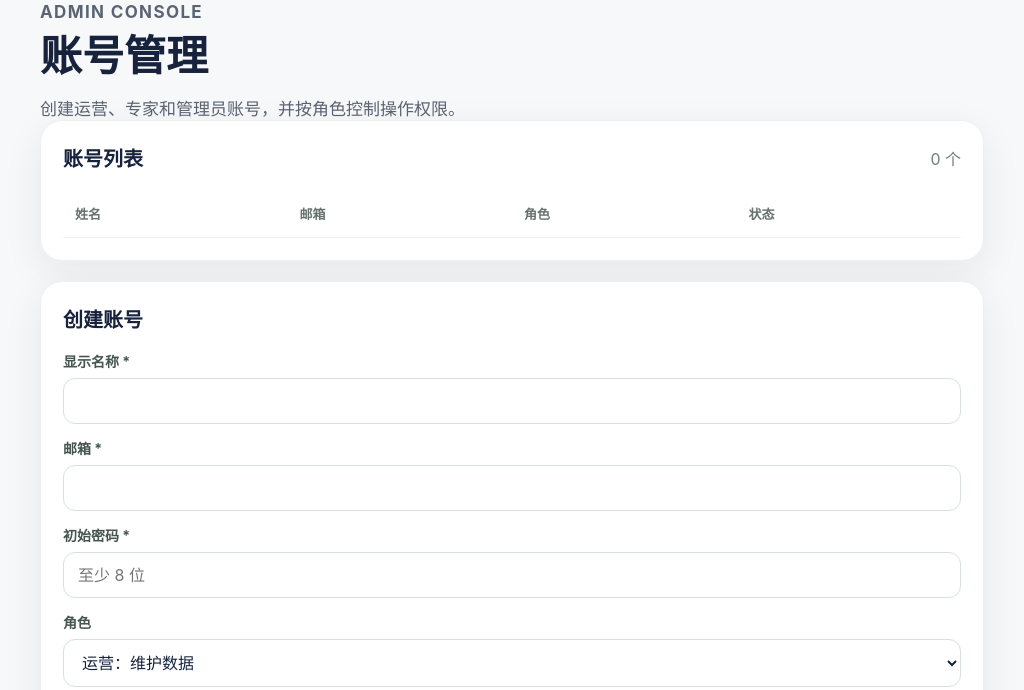
Scenario: UserManagement › 创建专家账号并提交所选角色
The image size is (1024, 690).
Expected: the text "0 个" is shown, [930,146,961,170]
In the field labelled "显示名称 *": (512,401) [63,378,961,424], type "审核专家"
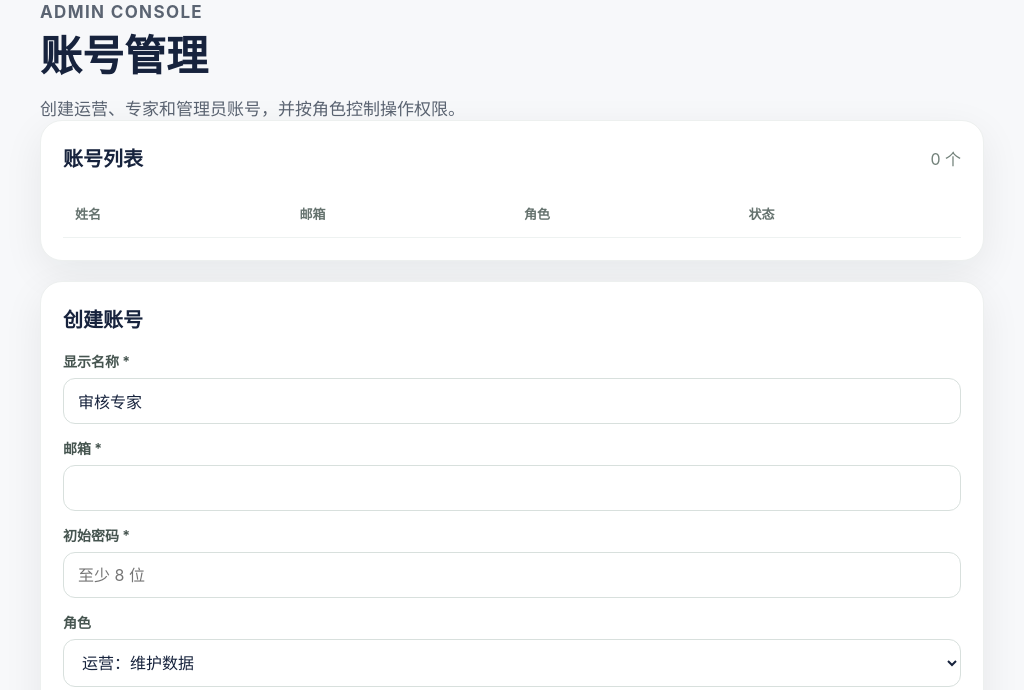
In the field labelled "邮箱 *": (512,488) [63,465,961,511], type "expert@fungi.local"
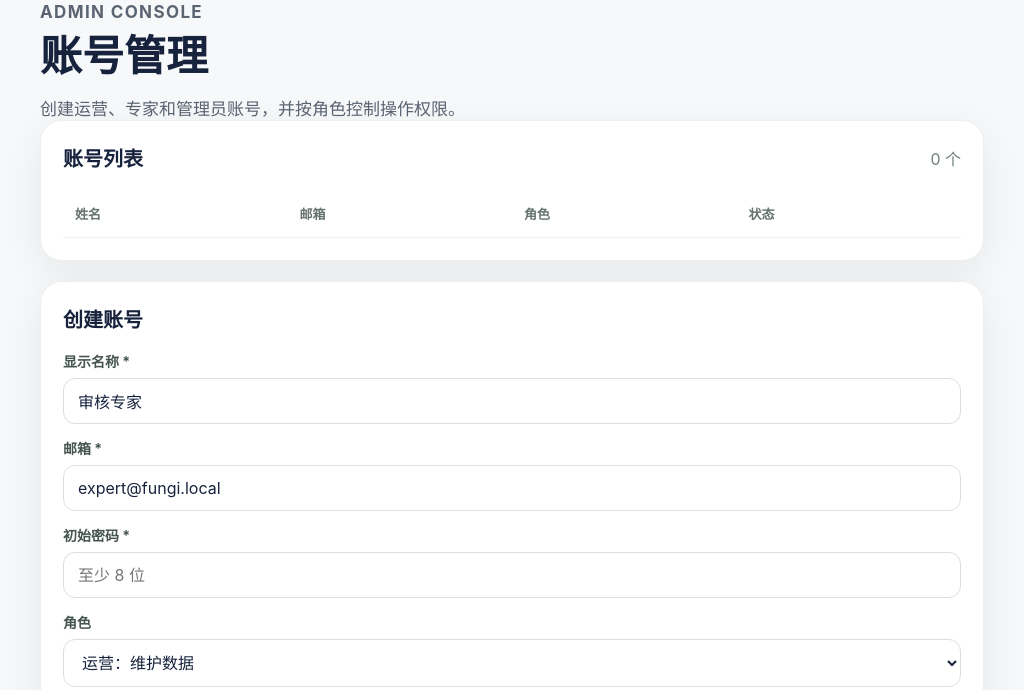
In the password field labelled "初始密码 *": (512,575) [63,552,961,598], type "safe-password"
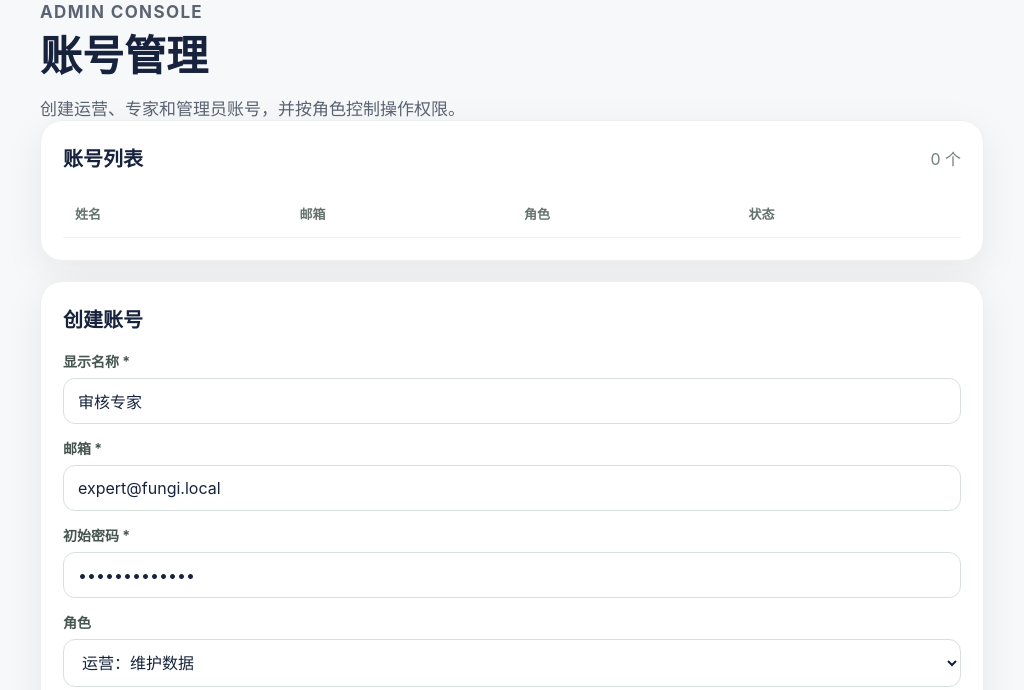
Select "专家：审核数据" in the dropdown labelled "角色": (512,663) [63,639,961,687]
(page scrolled)
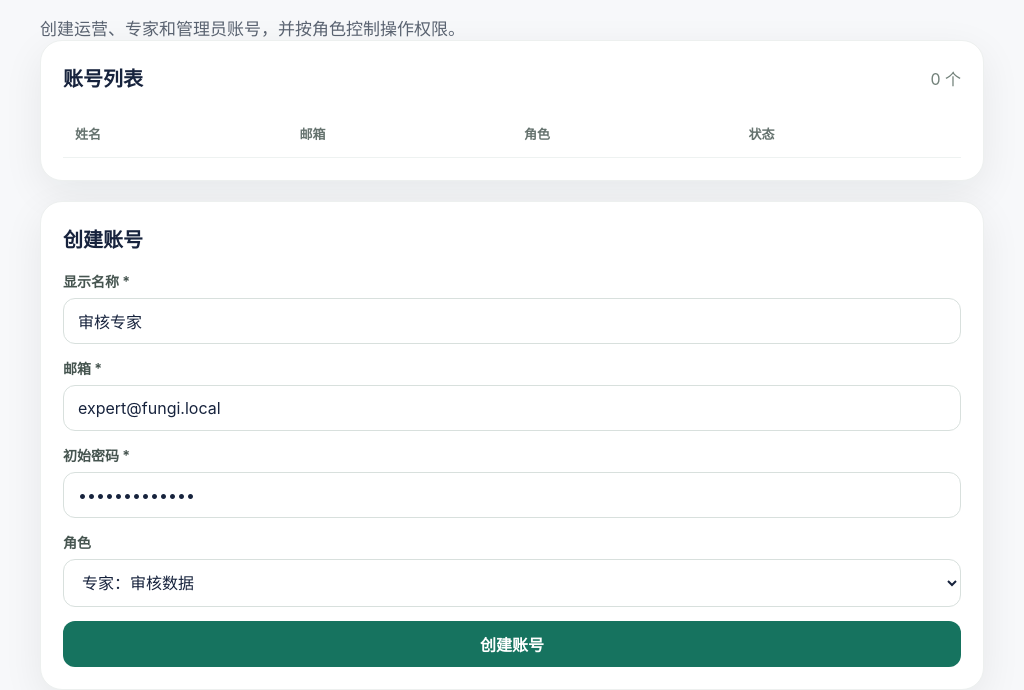
Click the button "创建账号": (512,644) [63,621,961,667]
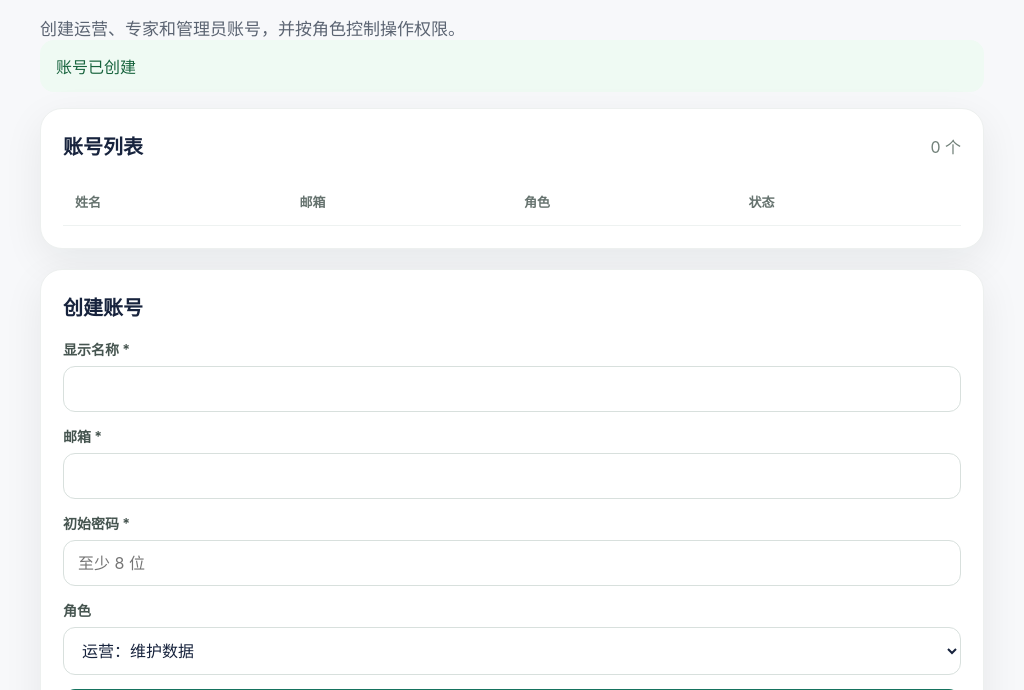
Expected: the text "账号已创建" is shown, [40,40,984,92]
